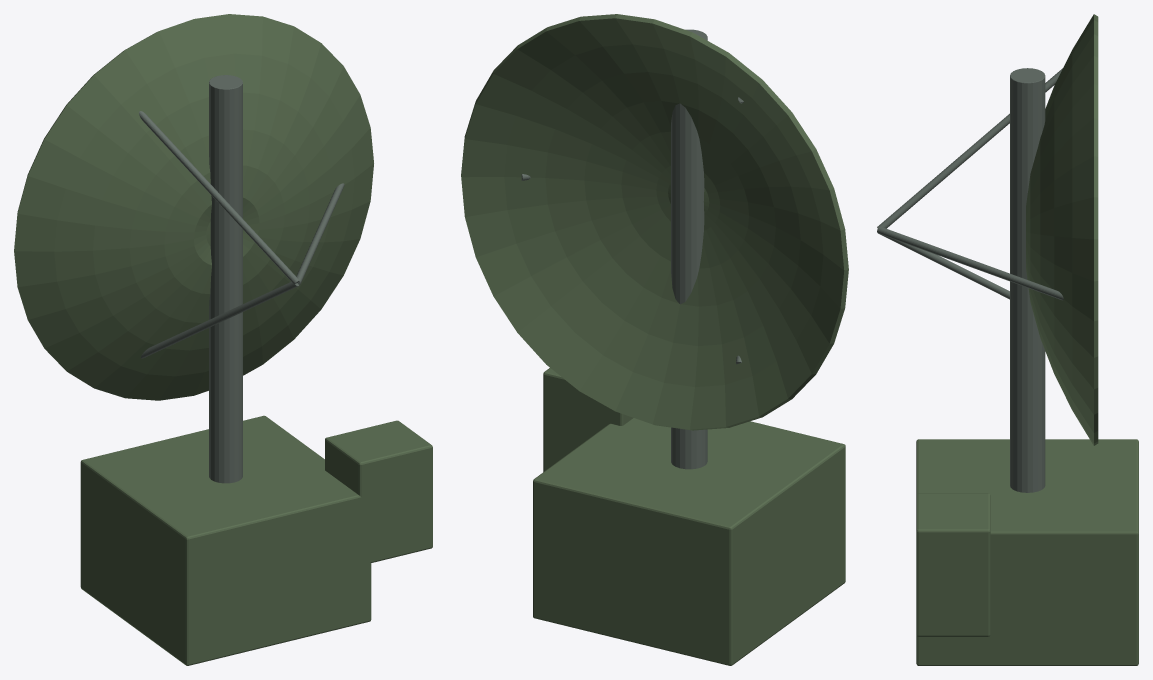
File: RadarArray.fbx
3 views of the same model, side by side, from view 1: azimuth 30°, elevation 25°; view 2: azimuth 150°, elevation 25°; view 3: azimuth 270°, elevation 25° (orthographic). The views are drawn at different scales.
Visible parts, largest first — view 1: RadarArray; view 2: RadarArray; view 3: RadarArray.
Part boxes in pixels (x1,y1,x2,y2): RadarArray: [14, 14, 432, 665]; RadarArray: [461, 14, 848, 665]; RadarArray: [877, 14, 1138, 665].
Size of the model in its own units: 292 by 177 by 436.
